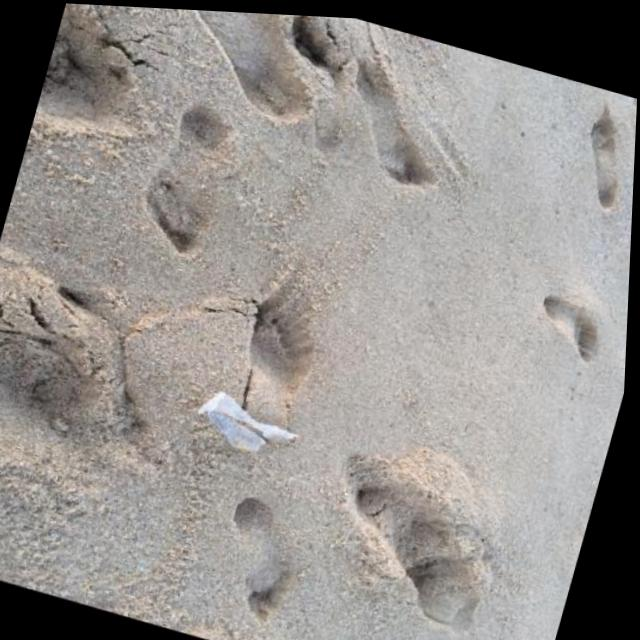plastic: (188, 386, 306, 467)
